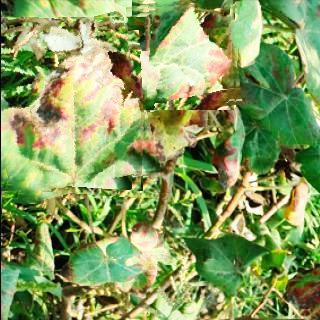blight: (0, 17, 151, 198), (125, 0, 241, 110)
